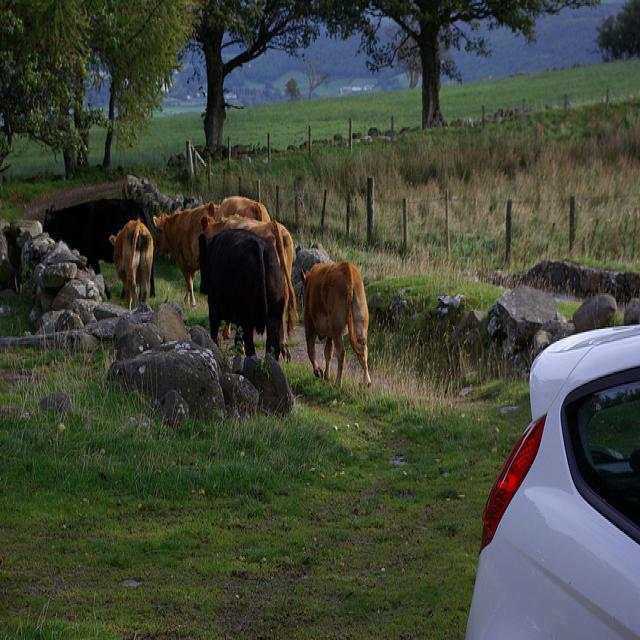Vehicle: (464, 322, 640, 633)
